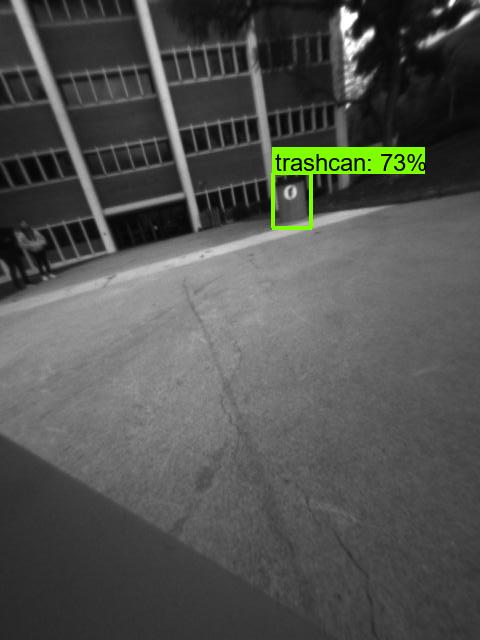trashcan: (273, 177, 312, 224)
